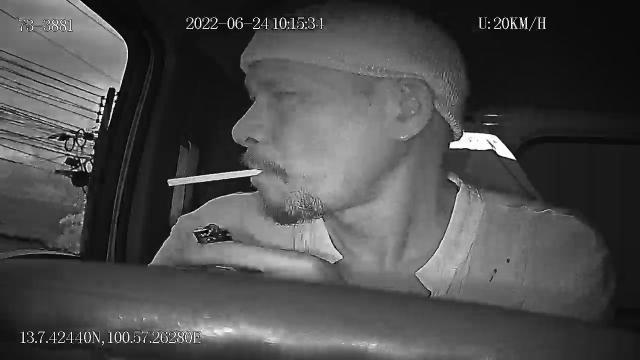Smoking: (166, 164, 264, 186)
